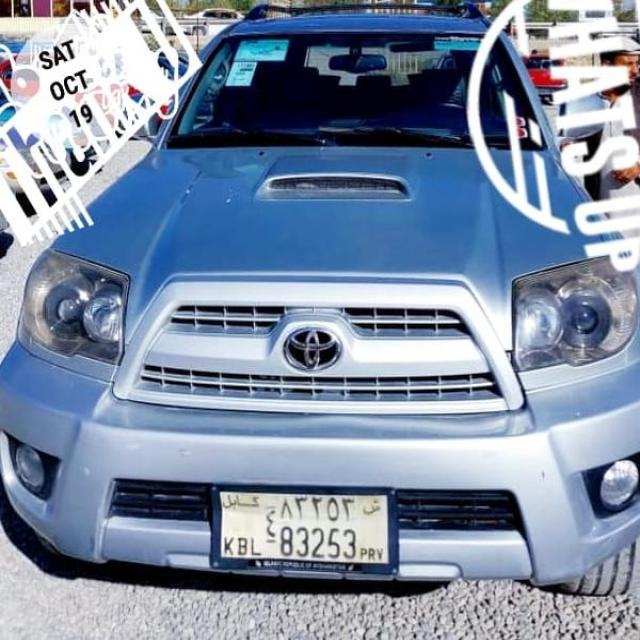Plate: (210, 484, 396, 573)
